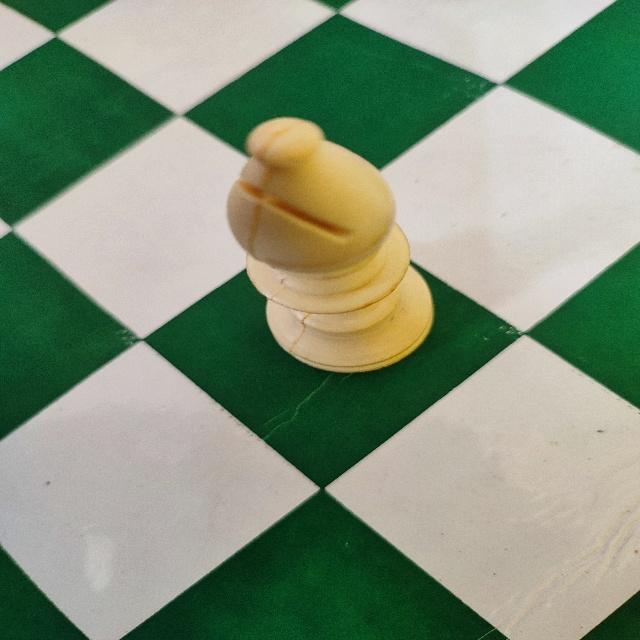Bishop: (221, 113, 439, 380)
